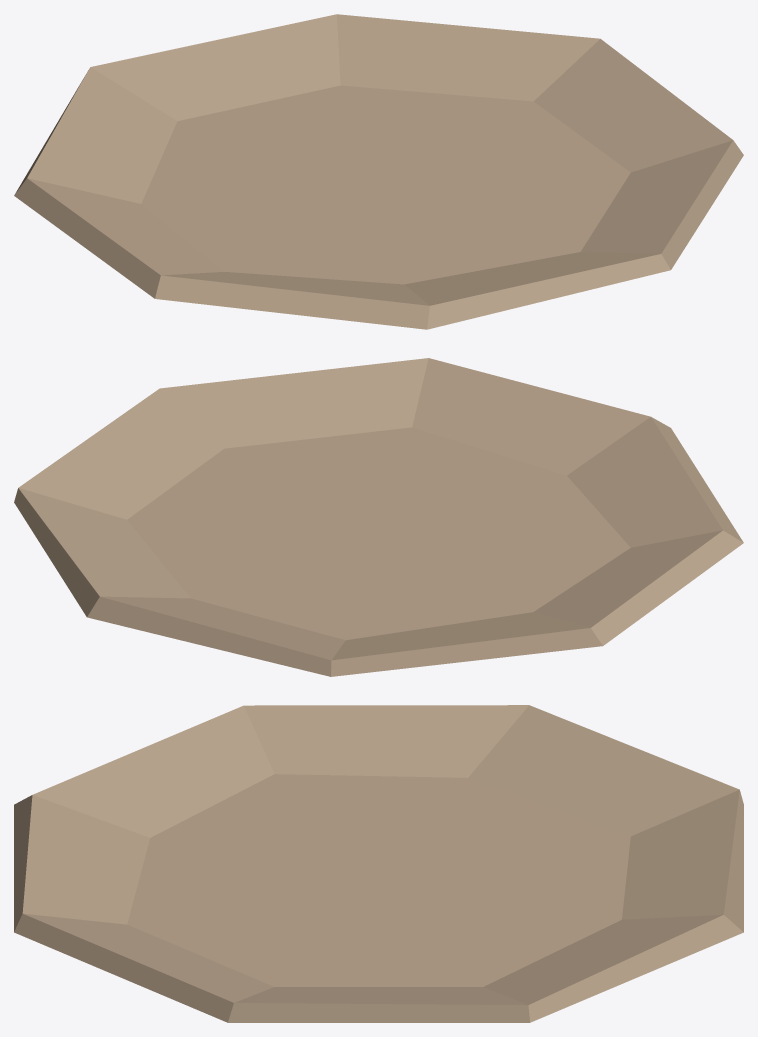
File: SM_Plate_A.gltf
3 views of the same model, one above another, from view 1: azimuth 30°, elevation 25°; view 2: azimuth 150°, elevation 25°; view 3: azimuth 270°, elevation 25° (orthographic). The views are drawn at different scales.
Parts seen in each view (by area): view 1: SM_Plates_A; view 2: SM_Plates_A; view 3: SM_Plates_A.
Part boxes in pixels (<box>): SM_Plates_A: <box>14,14,743,329</box>; SM_Plates_A: <box>14,358,743,676</box>; SM_Plates_A: <box>14,705,743,1022</box>.
Size of the model in its own units: 0.4249 by 0.0283 by 0.4249.
Materials: 1 (1 with a texture image).
